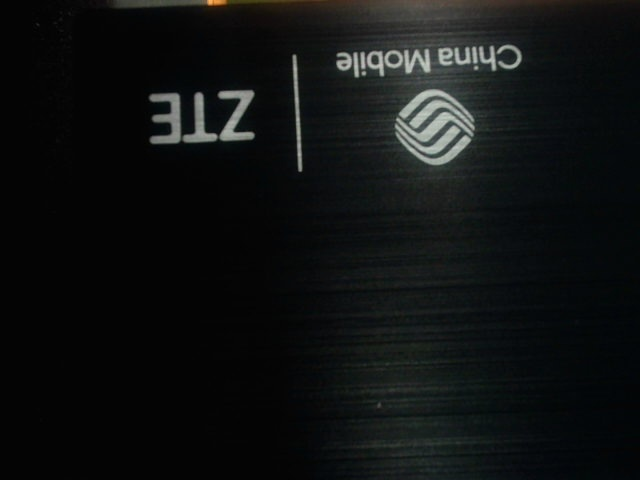AL_ZTEChinaMobile: (115, 36, 538, 183)
